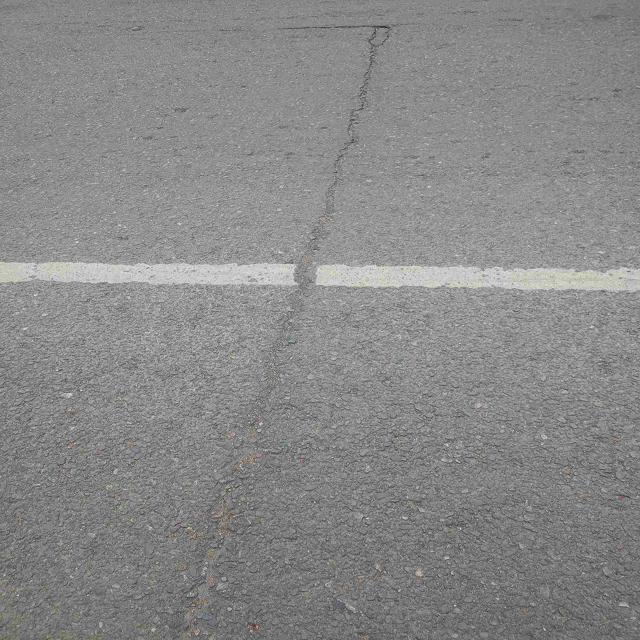Memanjang: (138, 18, 414, 640)
